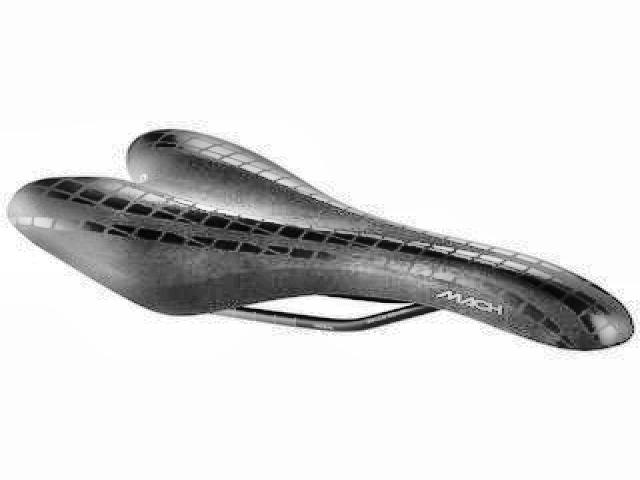saddle: (8, 125, 637, 352)
